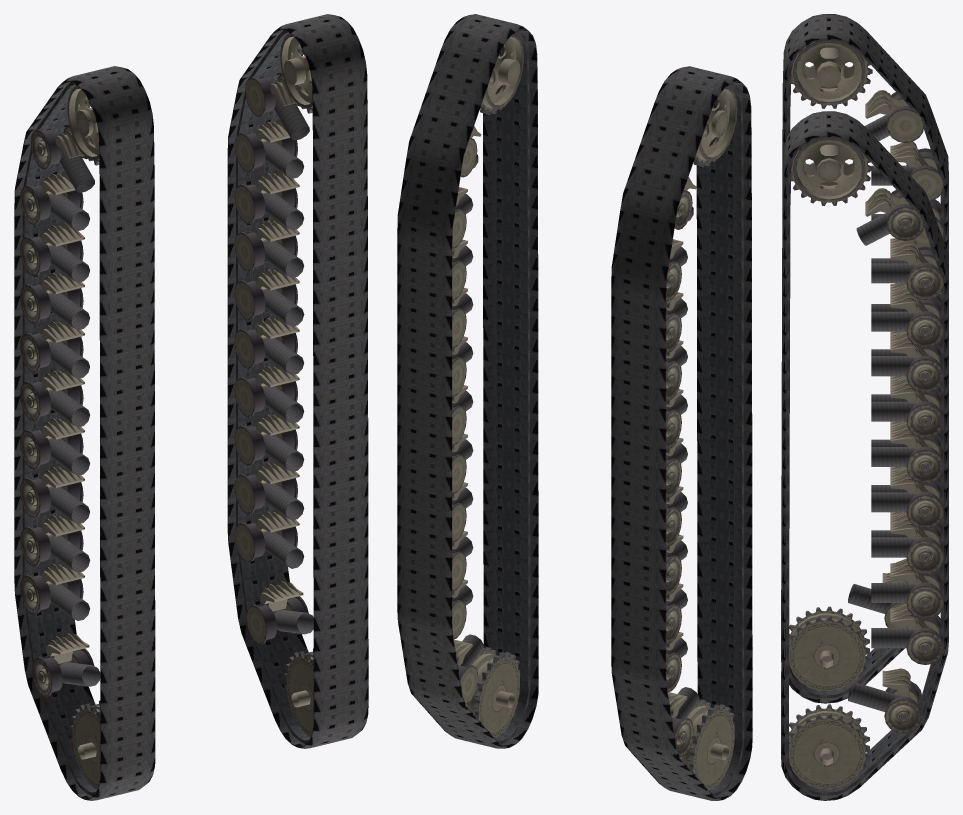
The model's file is Chassis.glb.
3 views of the same model, side by side, from view 1: azimuth 30°, elevation 25°; view 2: azimuth 150°, elevation 25°; view 3: azimuth 270°, elevation 25° (orthographic). The views are drawn at different scales.
Parts seen in each view (by area): view 1: set_0_group_0, set_1_group_0, set_3_group_0, set_5_group_0, set_4_group_0, set_2_group_0; view 2: set_0_group_0, set_1_group_0, set_3_group_0, set_5_group_0; view 3: set_5_group_0, set_3_group_0, set_0_group_0, set_1_group_0, set_4_group_0.
Part boxes in pixels (x1,y1,x2,y2): set_0_group_0: (227,14,368,748); set_1_group_0: (14,66,155,800); set_3_group_0: (20,85,100,789); set_5_group_0: (234,33,313,736); set_4_group_0: (262,530,304,568); set_2_group_0: (47,582,89,620); set_0_group_0: (397,14,538,748); set_1_group_0: (611,66,752,800); set_3_group_0: (666,86,737,790); set_5_group_0: (452,33,523,737); set_5_group_0: (789,137,944,789); set_3_group_0: (789,40,944,691); set_0_group_0: (781,111,948,800); set_1_group_0: (781,14,948,703); set_4_group_0: (871,618,928,648).
Bounding box in the file's own units: 2.73 × 6.97 × 1.58.
6 materials, 6 textured.
